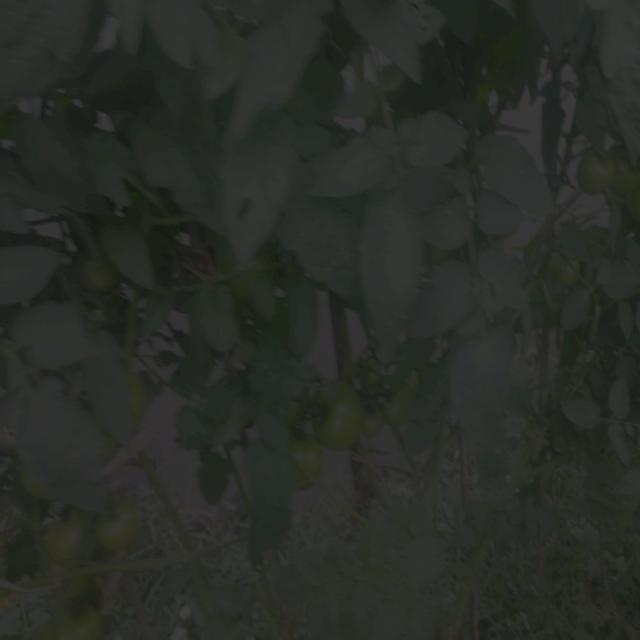tomato: (208, 242, 287, 306), (102, 366, 166, 438), (582, 144, 640, 198), (368, 370, 417, 433), (19, 448, 66, 504), (320, 379, 358, 446), (276, 431, 316, 490), (96, 502, 138, 553), (62, 592, 104, 640), (49, 518, 85, 573), (78, 262, 117, 302), (550, 246, 585, 290), (427, 240, 462, 277), (276, 391, 309, 425)
